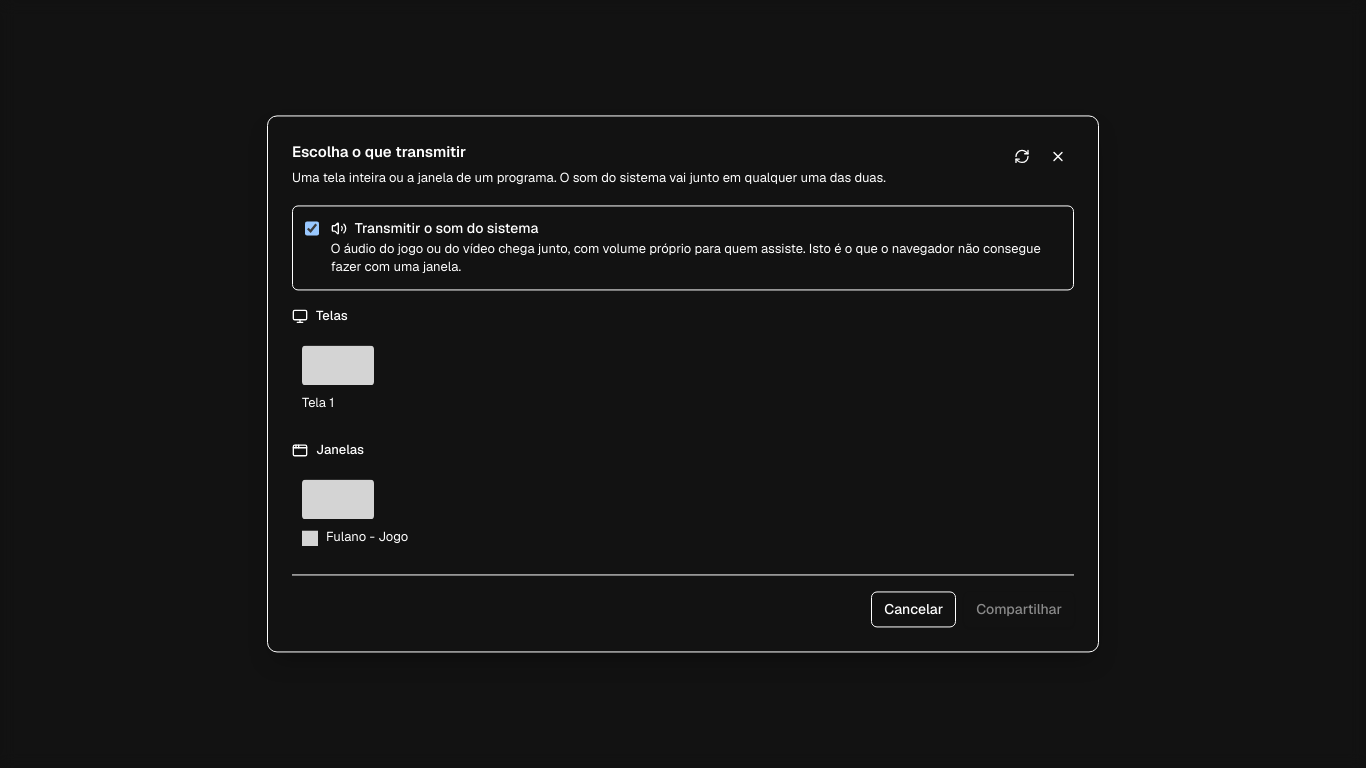
Test: o seletor de tela do app › a escolha de uma janela que já fechou não sobrevive a atualização
Click the button "Fulano - Jogo" at {"x": 418, "y": 514}, box [292,469,545,559]
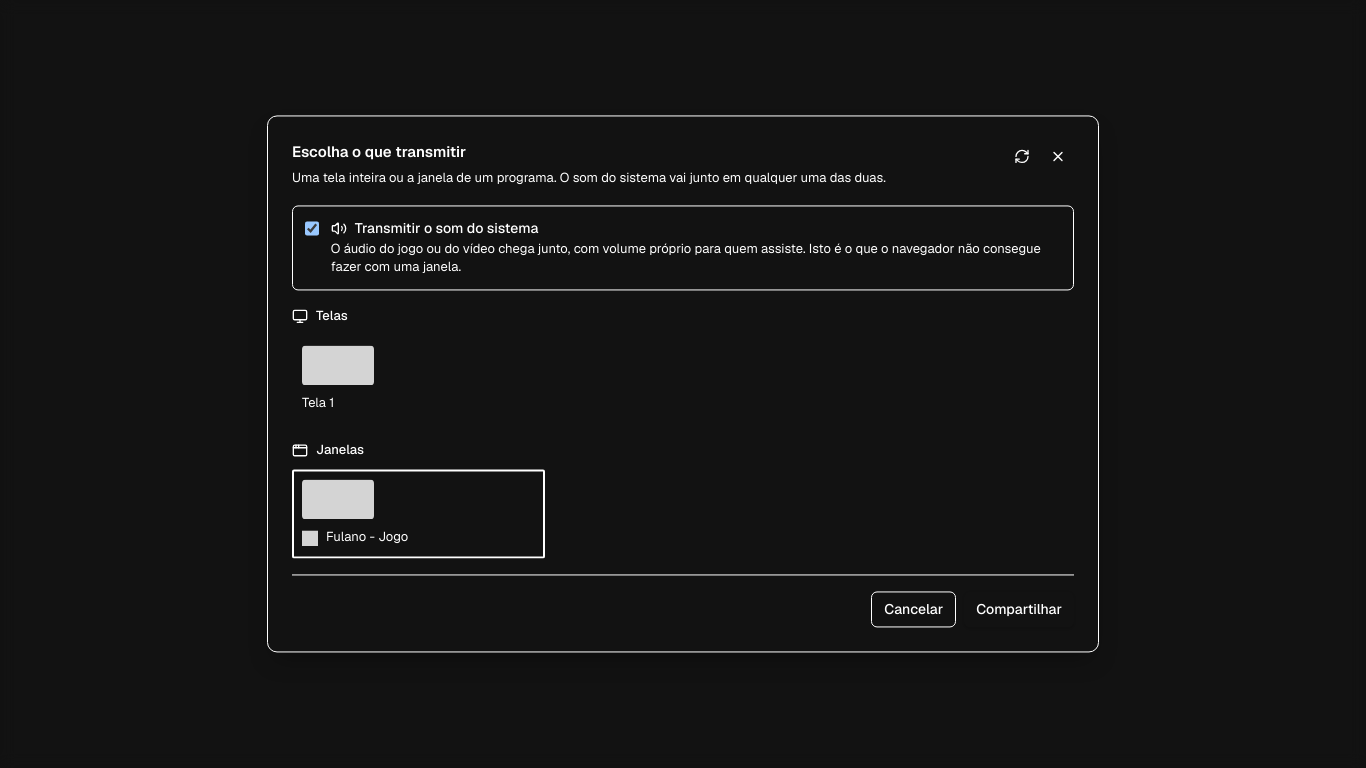
Now the button "Compartilhar" is enabled, box [964,592,1074,628]
Click the 1st button named "Atualizar a lista" at {"x": 1022, "y": 156}, box [1006,140,1038,172]
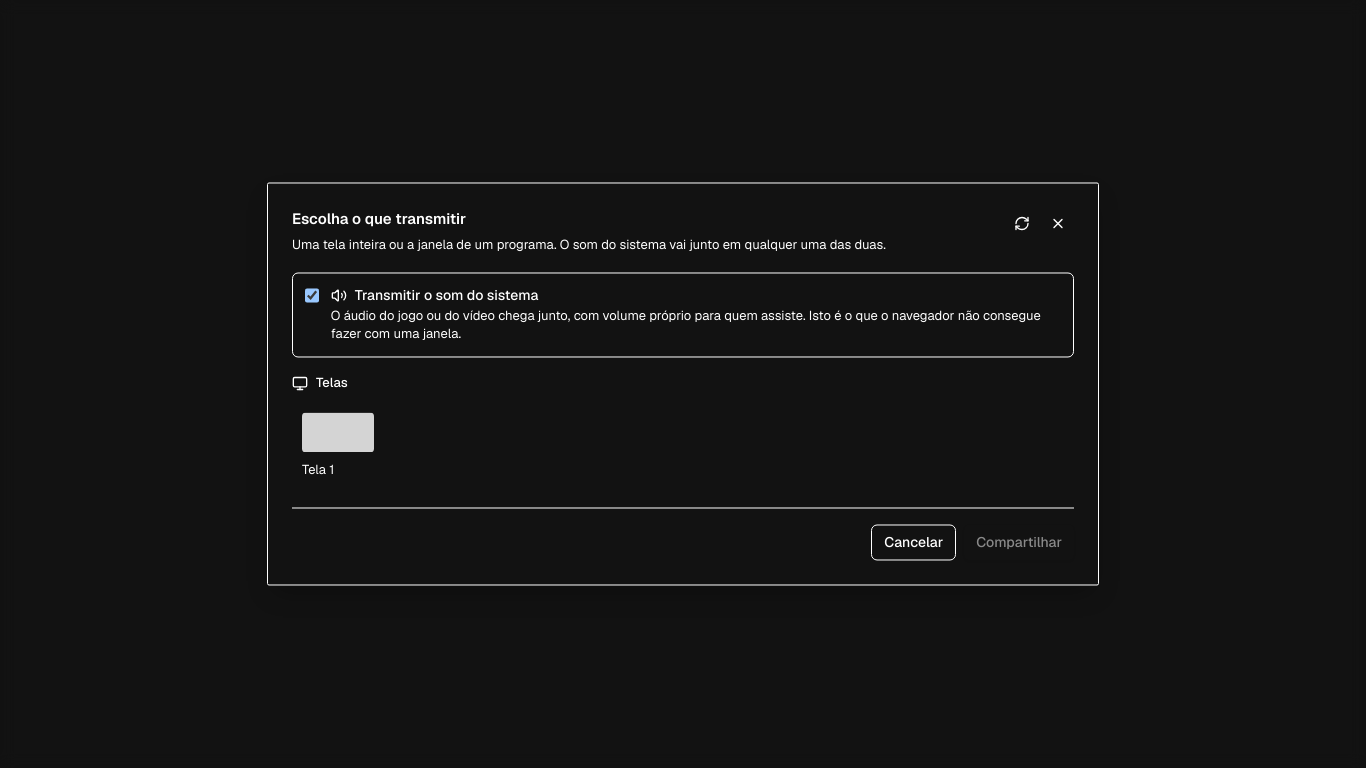
Now the button "Compartilhar" is disabled, box [964,524,1074,560]
